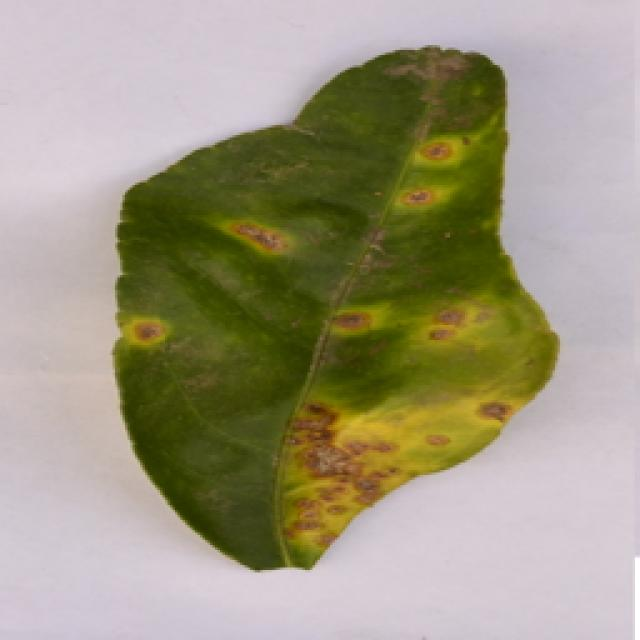canker: (104, 54, 587, 569)
